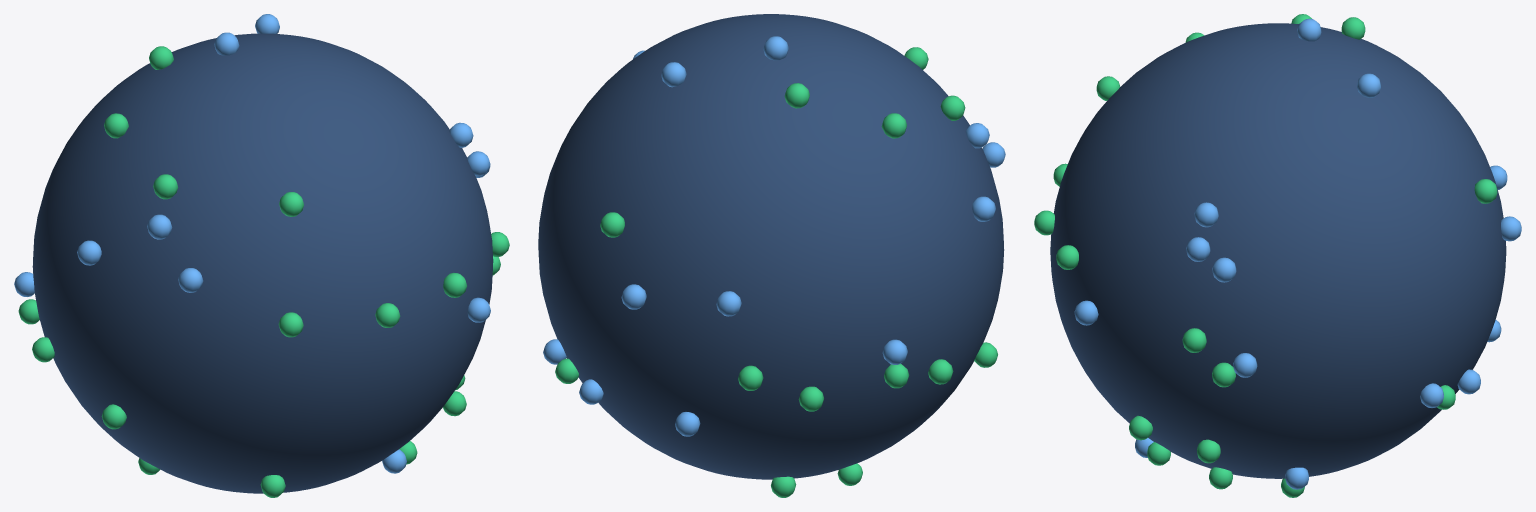
Rendered from dwb_globe.glb.
3 views of the same model, side by side, from view 1: azimuth 30°, elevation 25°; view 2: azimuth 150°, elevation 25°; view 3: azimuth 270°, elevation 25° (orthographic). The views are drawn at different scales.
Visible parts, largest first — view 1: DWBGlobe; view 2: DWBGlobe; view 3: DWBGlobe.
Part boxes in pixels (x1=…): DWBGlobe: x1=14, y1=14, x2=509, y2=497; DWBGlobe: x1=538, y1=14, x2=1005, y2=497; DWBGlobe: x1=1034, y1=14, x2=1521, y2=497.
Bounding box in the file's own units: 2.09 × 2.07 × 2.14.
